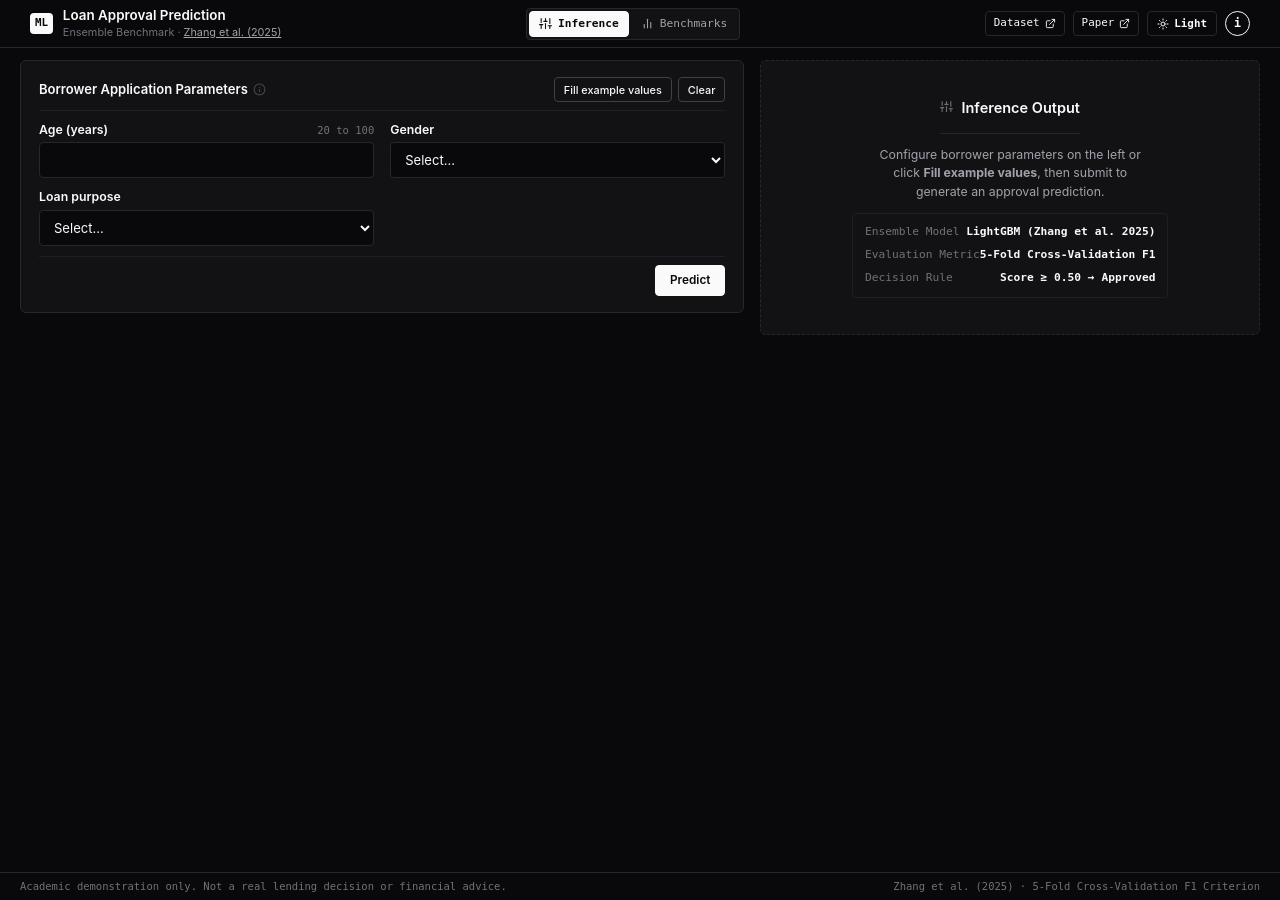
prediction form › fills example values and clears the form
Expected: the number field labelled "Age (years)" is shown, 39,142 -> 374,178
Click the button "Fill example values": point(613, 90) 554,77 -> 672,102
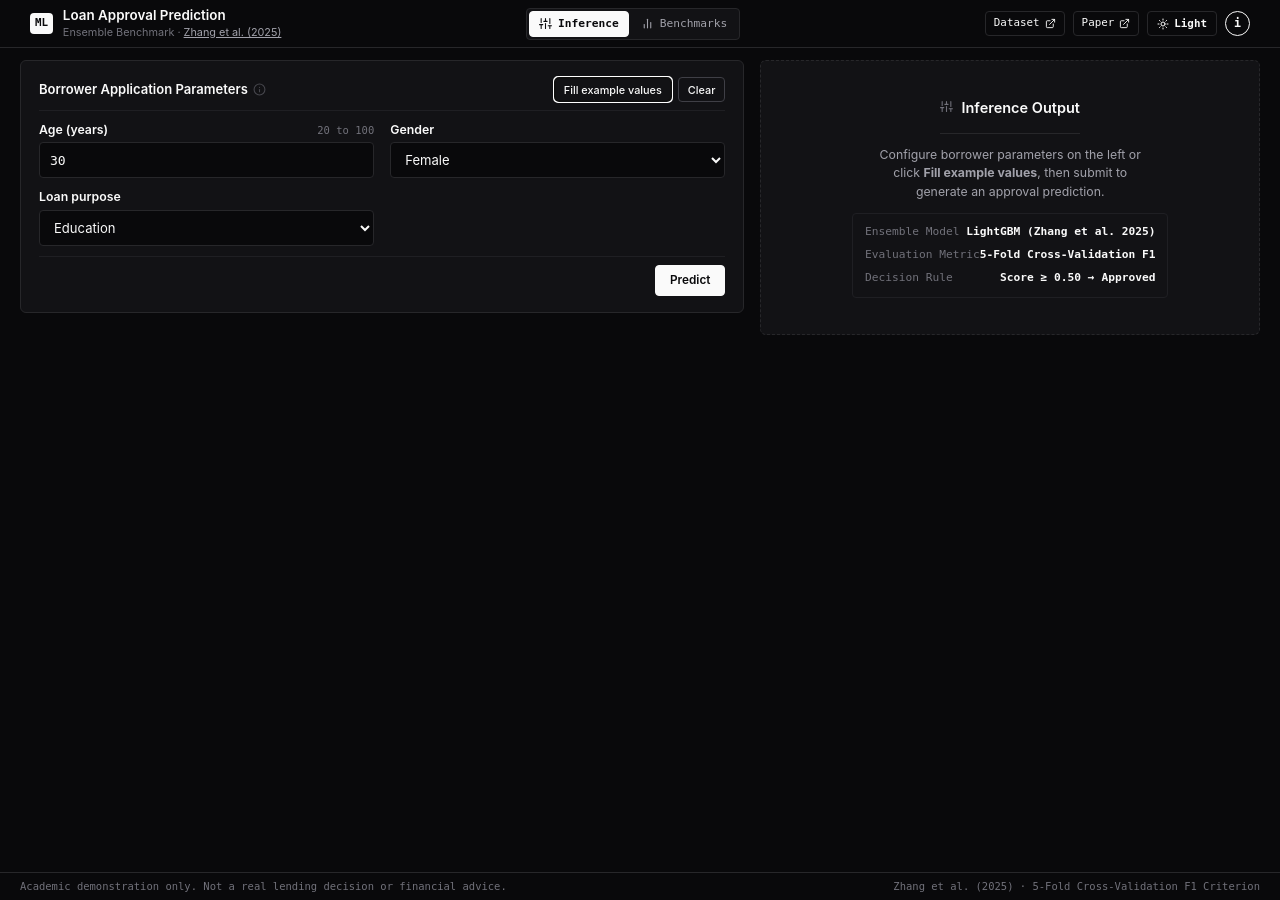
Expected: the number field labelled "Age (years)" holds "30", 39,142 -> 374,178
Click the button "Clear": point(702, 90) 678,77 -> 725,102
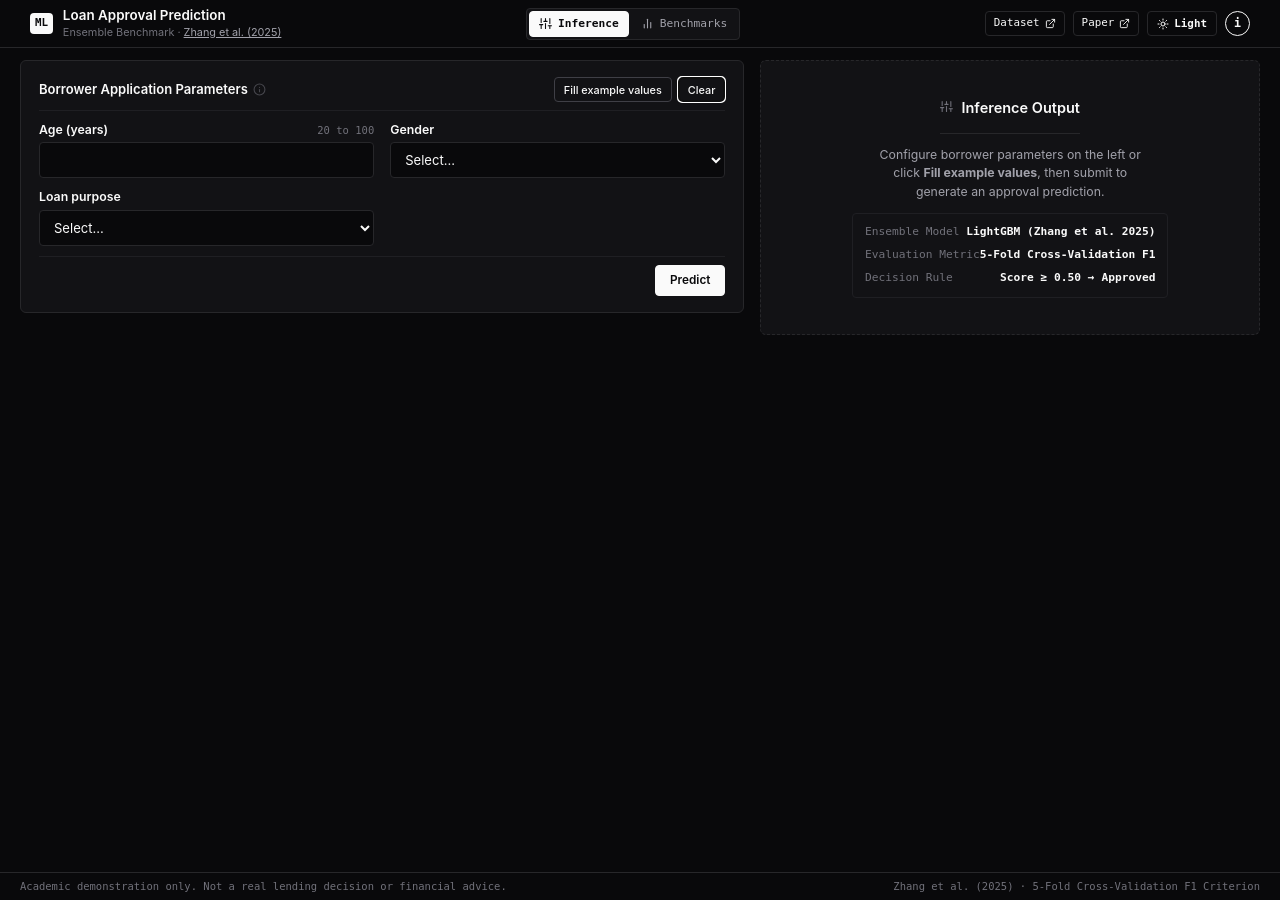
Expected: the number field labelled "Age (years)" is not empty, 39,142 -> 374,178
